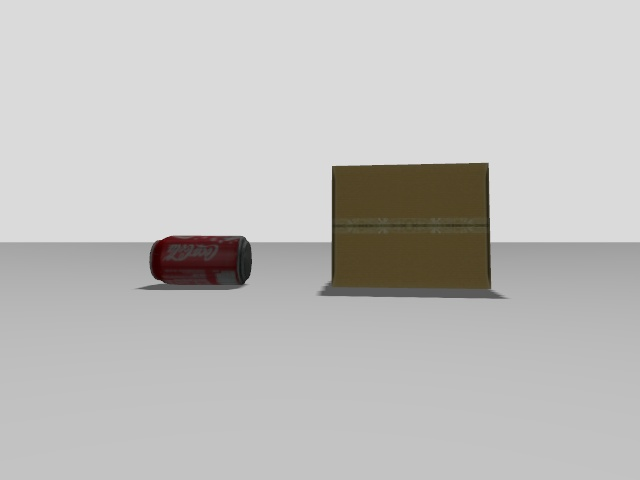canette: (150, 236, 252, 286)
carton: (332, 164, 492, 291)
